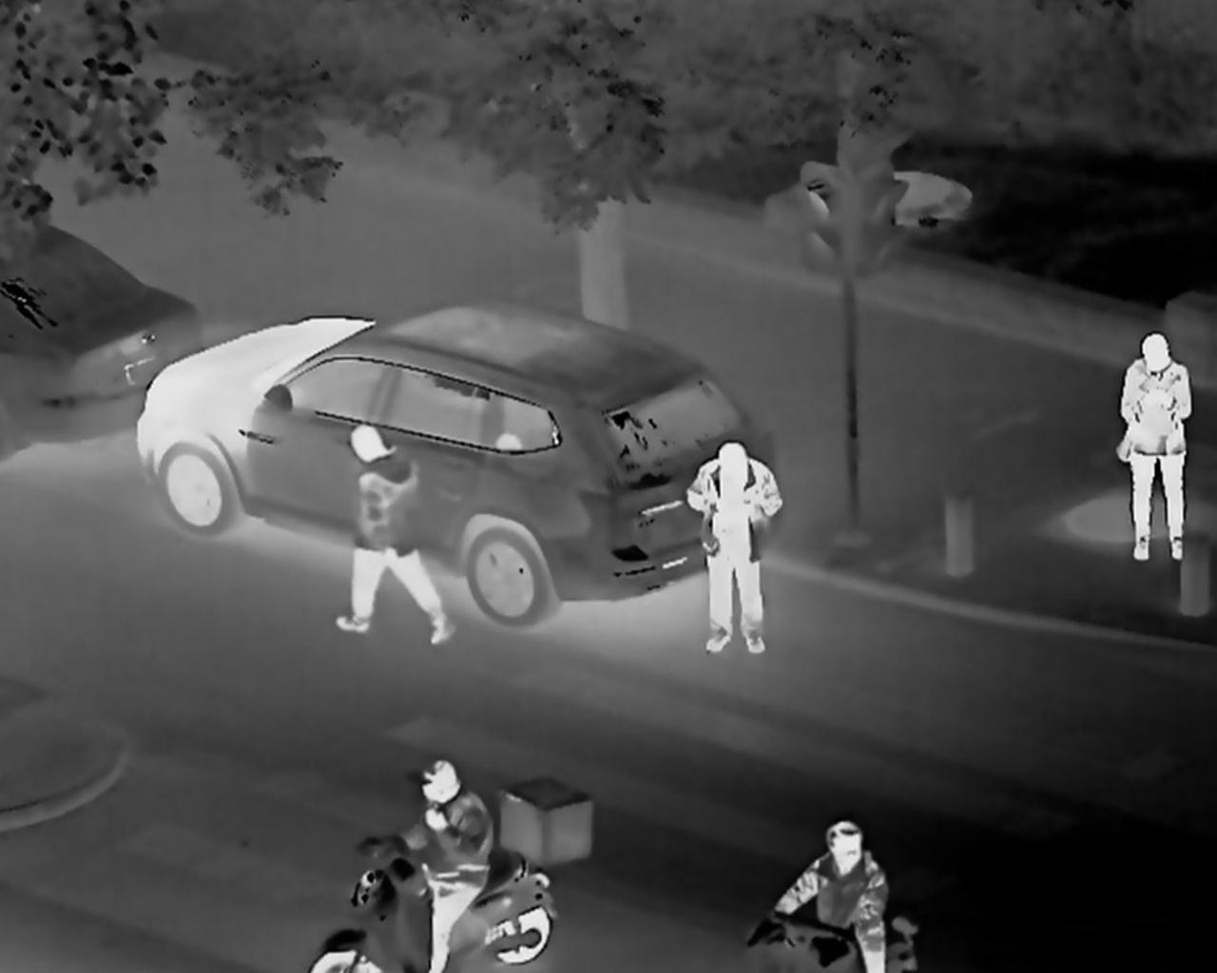person: (339, 422, 494, 674), (671, 438, 822, 644), (1092, 314, 1217, 561), (415, 763, 514, 973), (798, 809, 896, 973)
